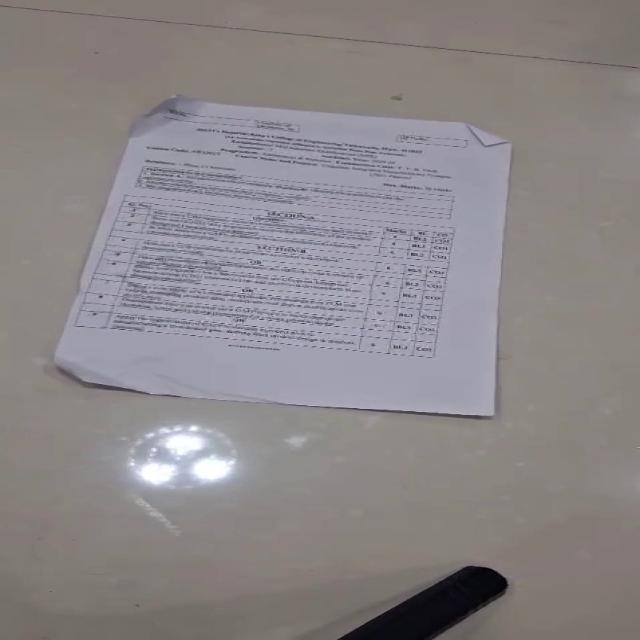paper: (52, 94, 513, 416)
